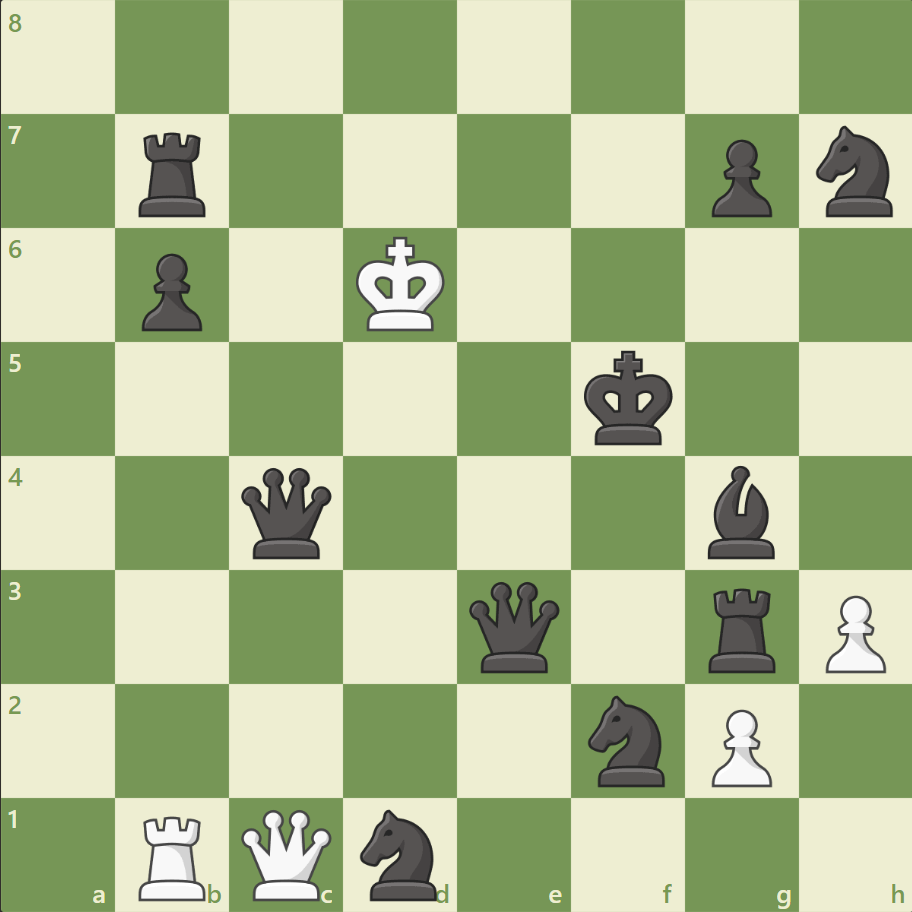K: (351, 231, 451, 339)
P: (701, 700, 776, 791), (815, 586, 889, 677)
Q: (237, 804, 336, 903)
R: (133, 806, 215, 904)
b: (698, 460, 782, 563)
k: (579, 344, 679, 452)
n: (351, 802, 449, 904), (579, 688, 676, 791), (806, 121, 903, 223)
p: (701, 132, 776, 223), (133, 246, 208, 337)
q: (464, 576, 563, 676), (237, 463, 336, 562)
r: (700, 579, 783, 676), (133, 125, 215, 222)
